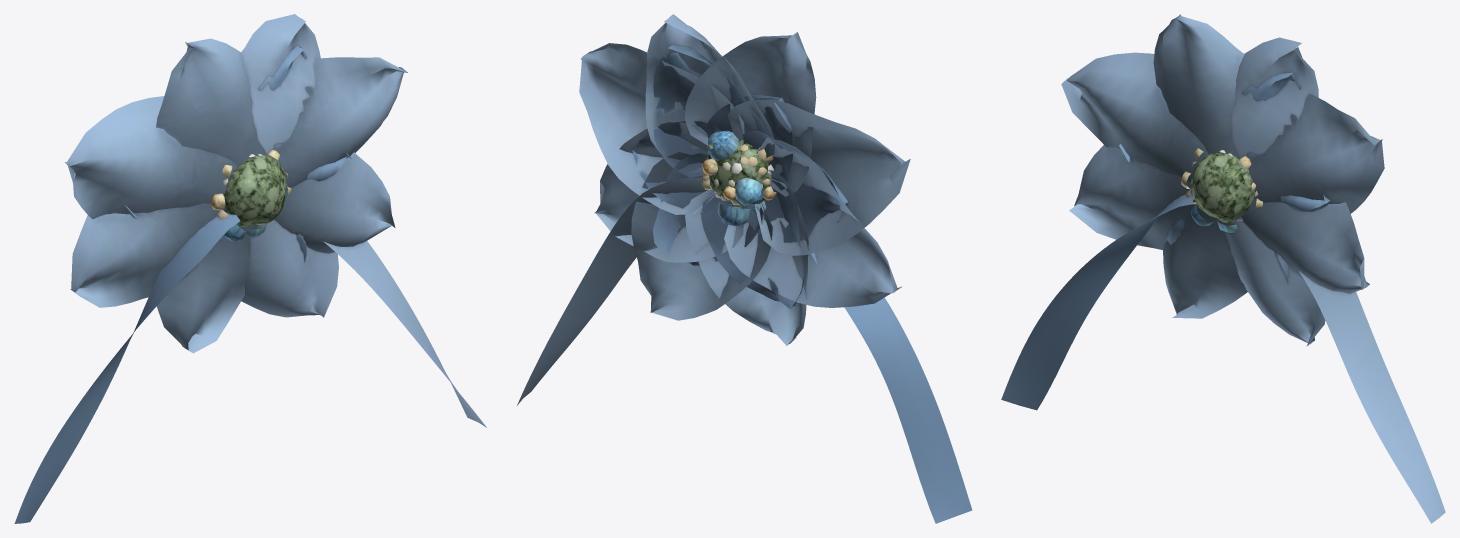
Rendered from fabric_flower.glb.
The picture shows the model from 3 angles, left to right: view 1: azimuth 30°, elevation 25°; view 2: azimuth 150°, elevation 25°; view 3: azimuth 330°, elevation 25°; orthographic projection. The views are drawn at different scales.
Visible parts, largest first — view 1: fabric_flower; view 2: fabric_flower; view 3: fabric_flower.
Boxes of the visible parts, <box> form: fabric_flower: <box>14,14,486,523</box>; fabric_flower: <box>517,14,972,523</box>; fabric_flower: <box>1001,14,1445,523</box>.
Size of the model in its own units: 3.1 by 2.89 by 0.4633.
Materials: 1 (1 with a texture image).
